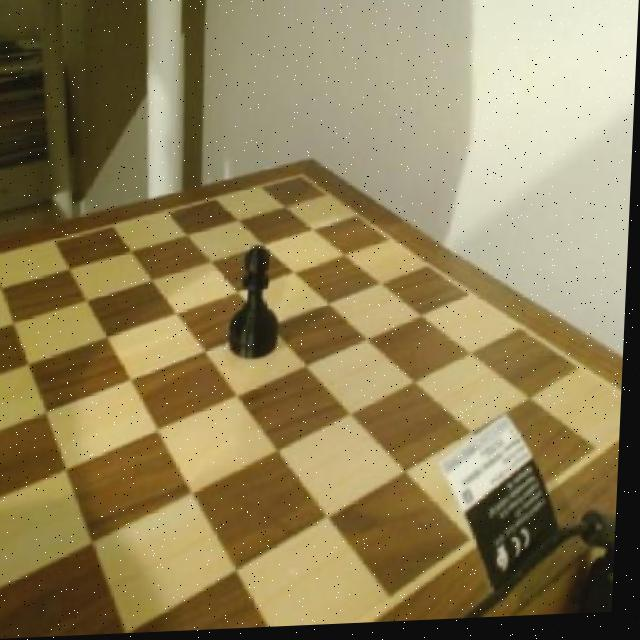black-knight: (225, 237, 291, 366)
